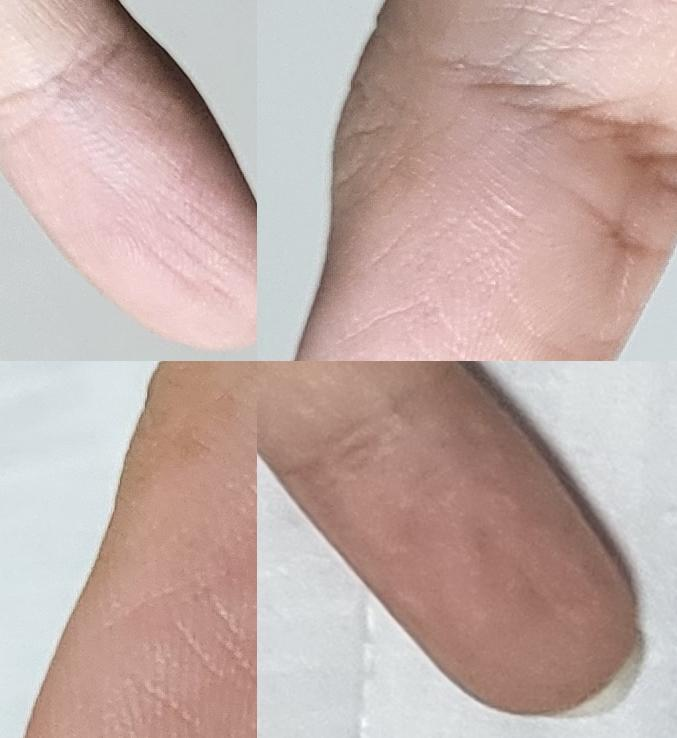Fingerprints: (273, 365, 636, 717), (307, 66, 677, 361), (24, 365, 257, 738), (0, 56, 257, 352)
